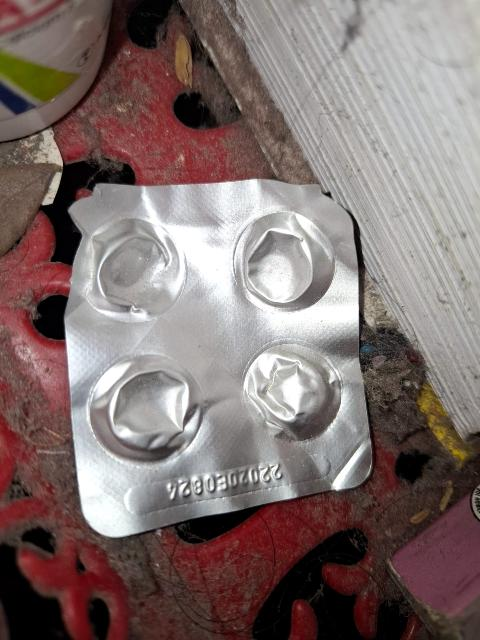medicine: (78, 178, 372, 506)
